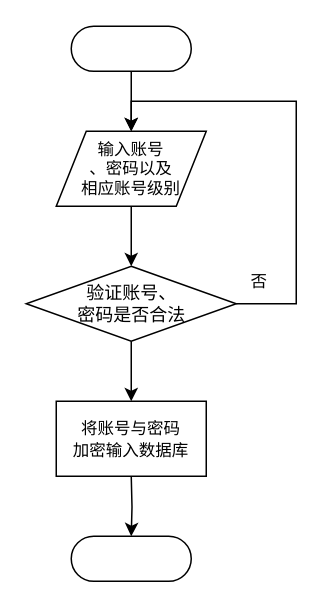
Some shapes in this 335 by 608 pixel diagram are drawn without their labels. Each missing label, with the centre of its shape:
"开始" goes at point 130,48.
"结束" goes at point 130,558.
